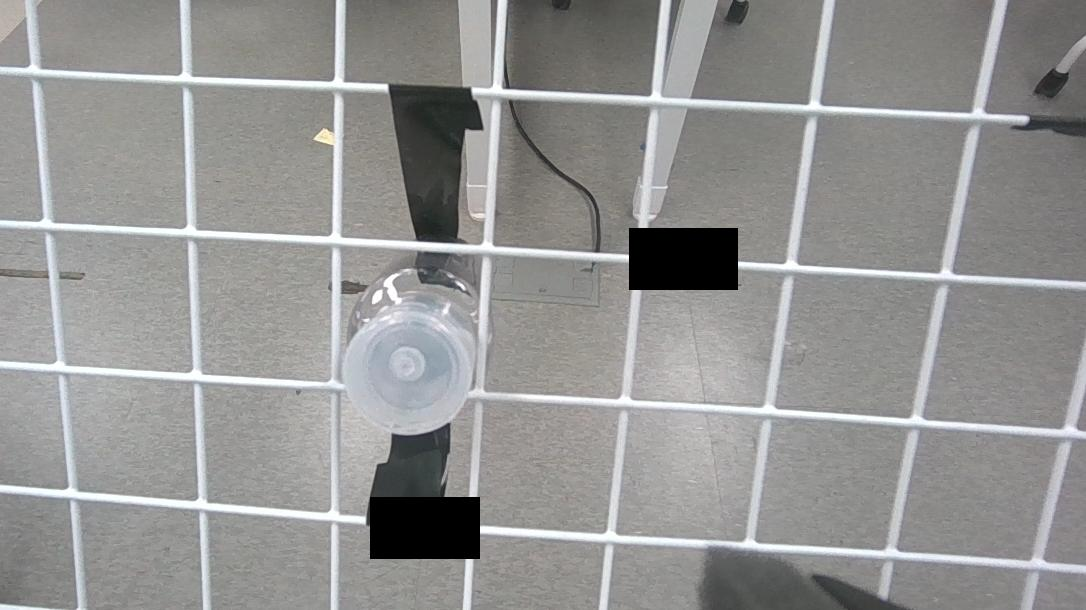Cap: (339, 306, 476, 439)
